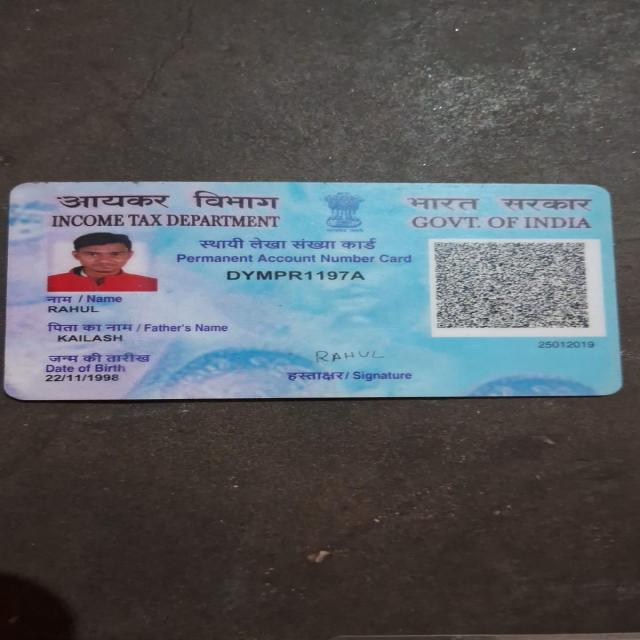pan_card: (9, 184, 613, 397)
